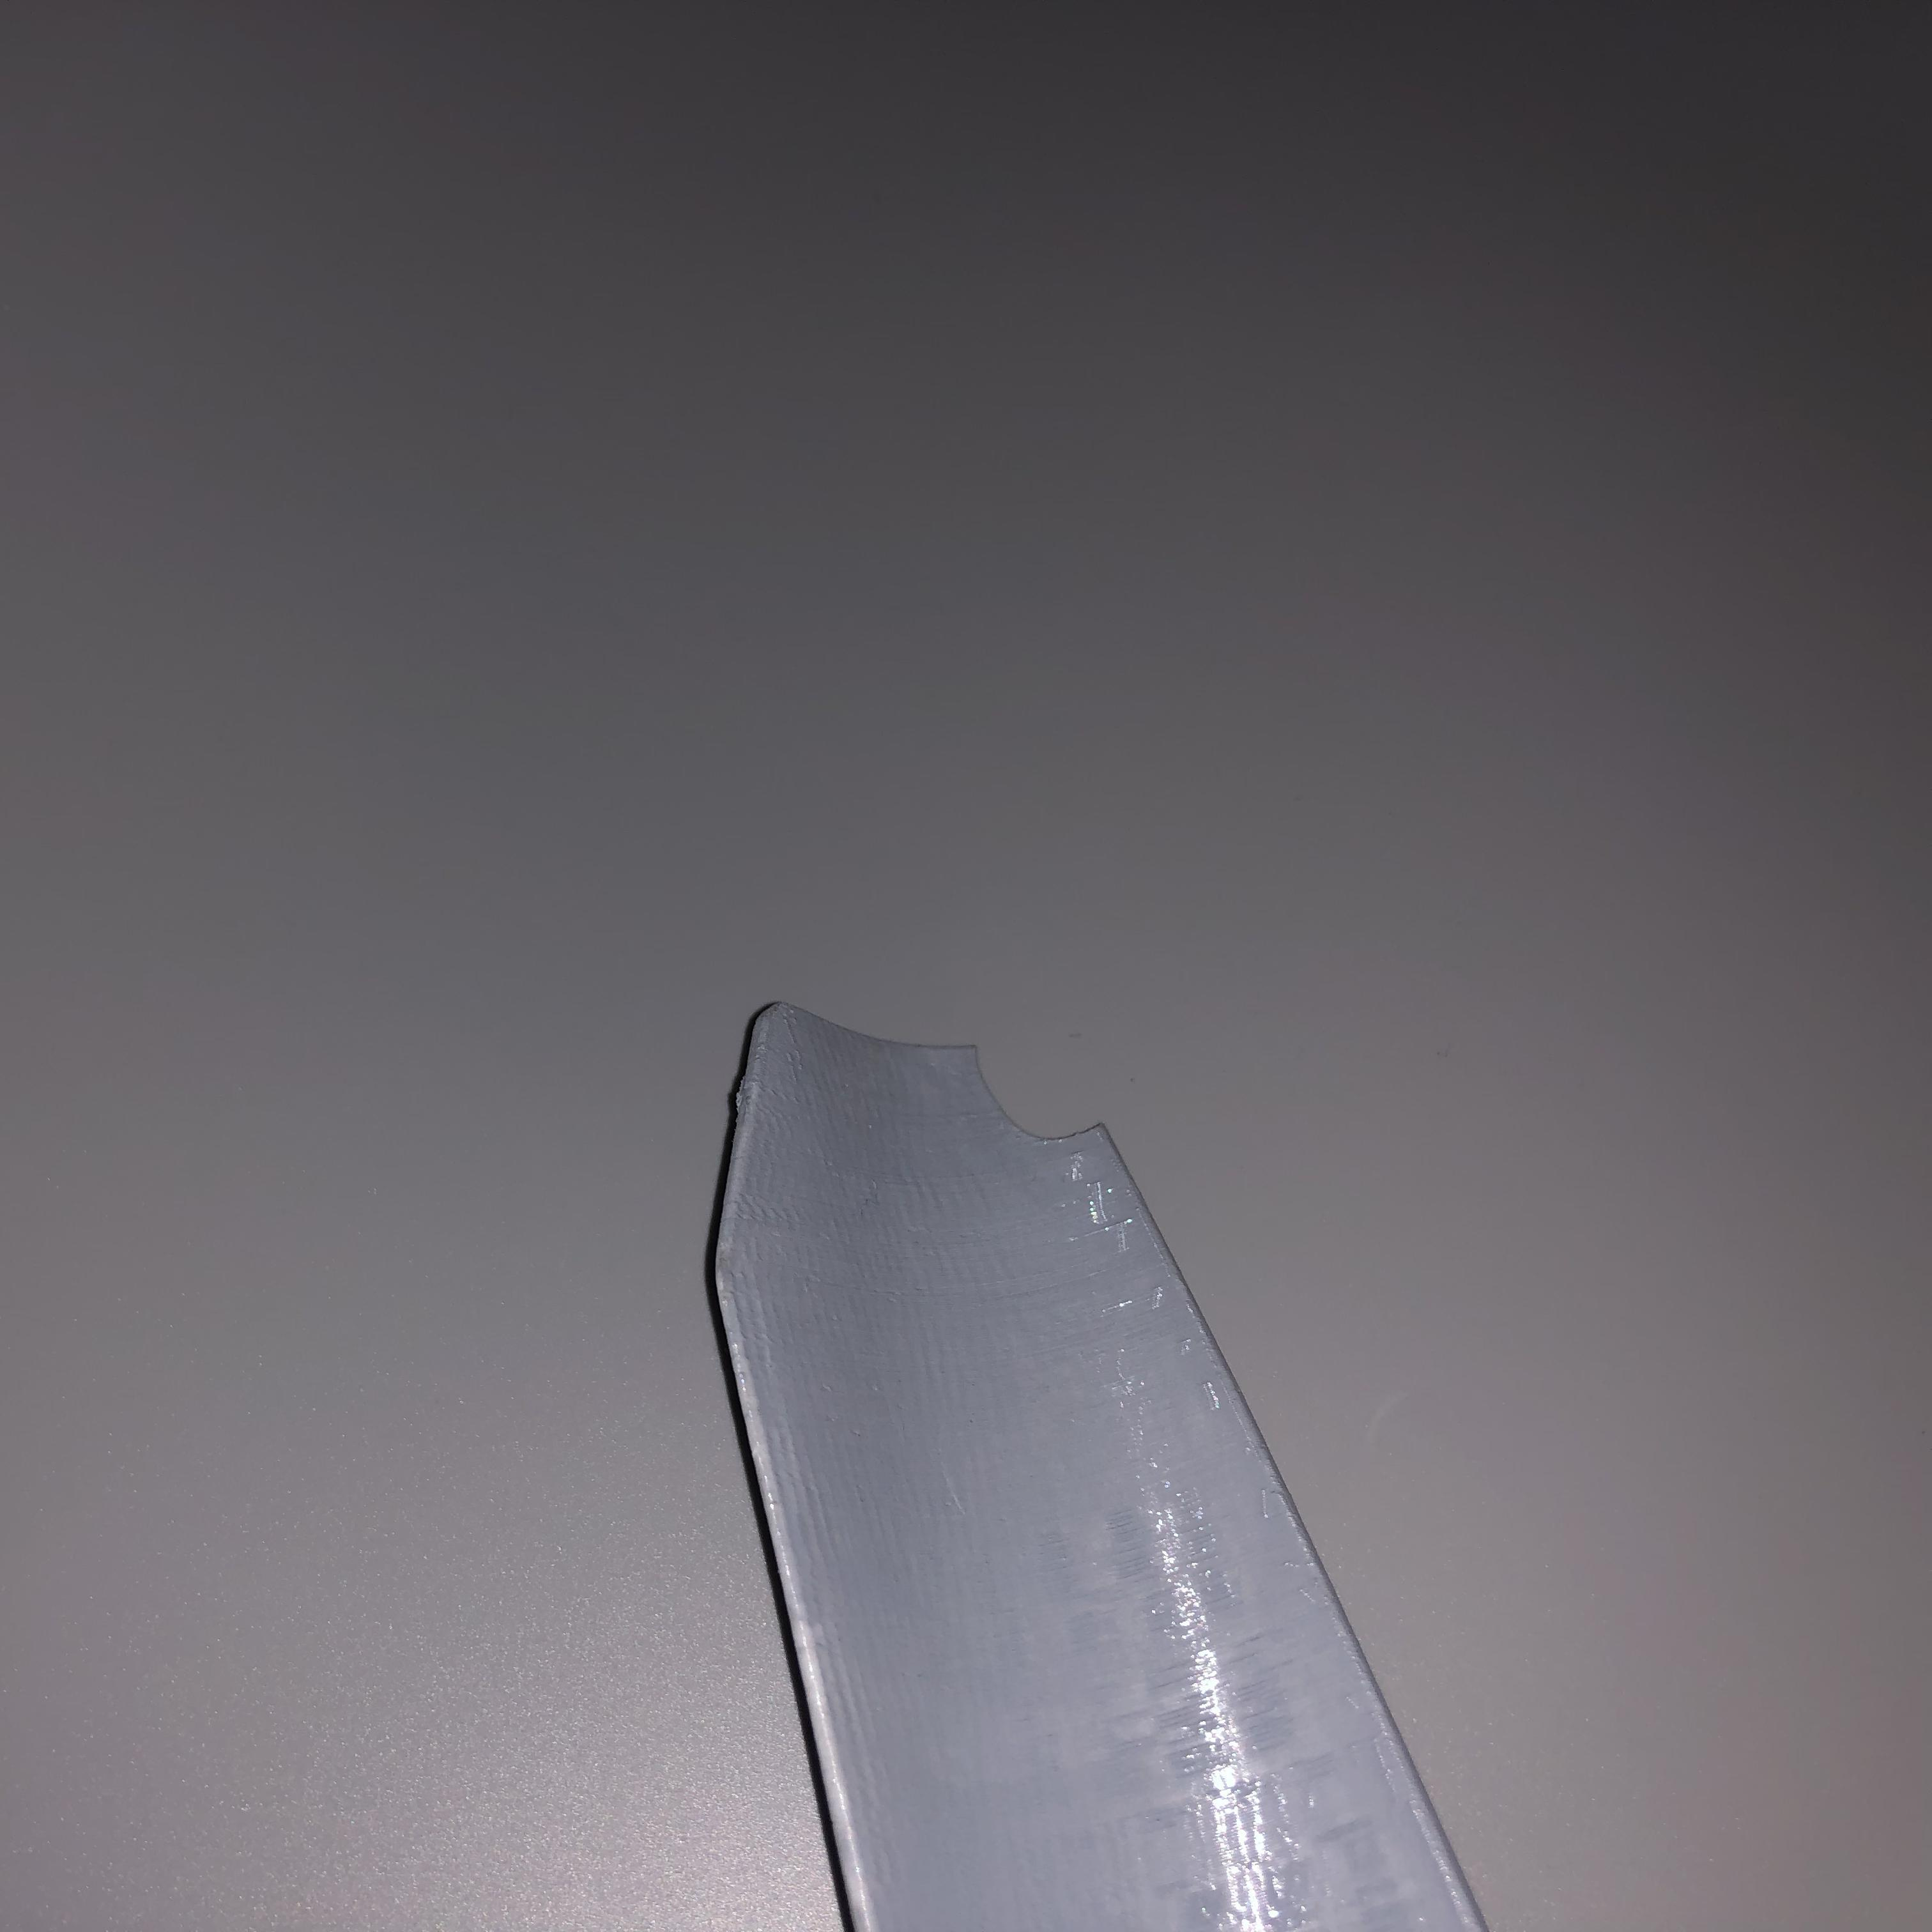fracture: (936, 1021, 1129, 1159)
